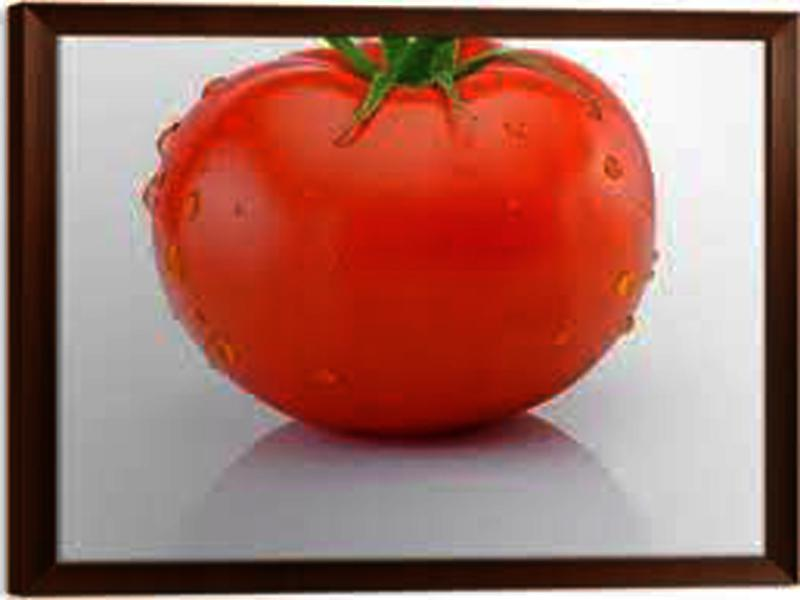Tomato: (151, 34, 653, 437)
